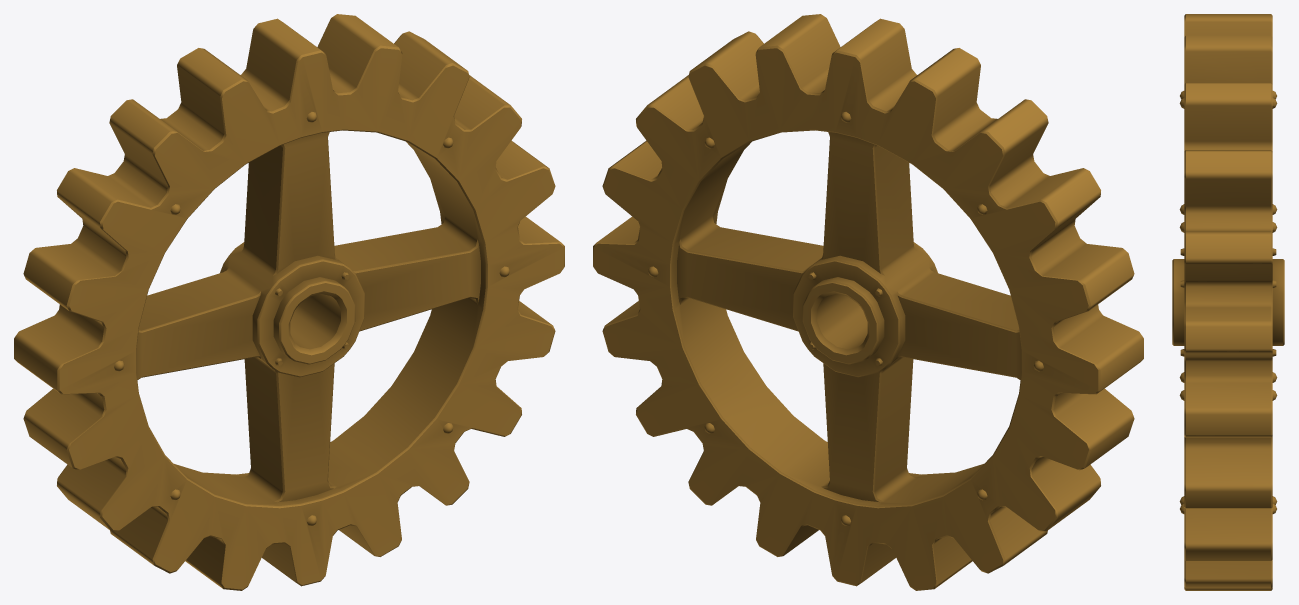
Rendered from gear_spur_20_m1.glb.
The picture shows the model from 3 angles, left to right: view 1: azimuth 30°, elevation 25°; view 2: azimuth 150°, elevation 25°; view 3: azimuth 270°, elevation 25°; orthographic projection.
Parts seen in each view (by area): view 1: GearSpur20_M1; view 2: GearSpur20_M1; view 3: GearSpur20_M1.
Part boxes in pixels (x1,y1,x2,y2): GearSpur20_M1: [14, 14, 564, 590]; GearSpur20_M1: [593, 14, 1143, 590]; GearSpur20_M1: [1172, 14, 1284, 590].
Size of the model in its own units: 0.0785 by 0.0785 by 0.0152.
